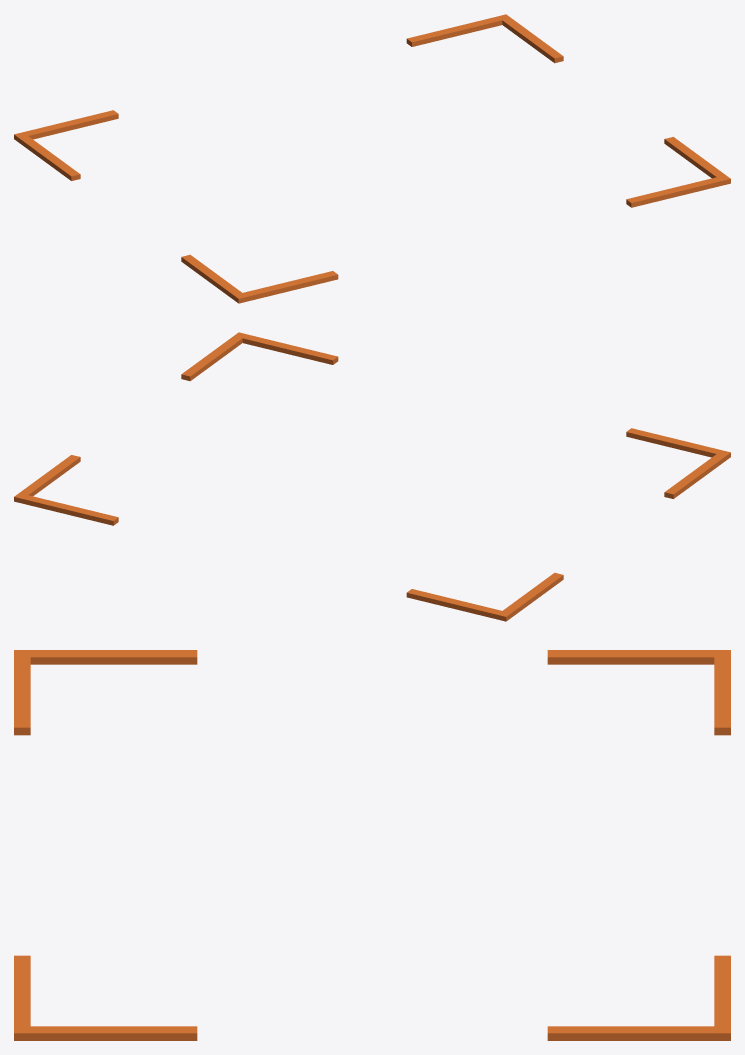
Rendered from corners.fbx.
3 renders of one model, top to bottom at view 1: azimuth 30°, elevation 25°; view 2: azimuth 150°, elevation 25°; view 3: azimuth 270°, elevation 25°, orthographic. The views are drawn at different scales.
Visible parts, largest first — view 1: Cube; view 2: Cube; view 3: Cube.
Boxes of the visible parts, x1,y1,x2,y2 form: Cube: (14, 14, 730, 303); Cube: (14, 332, 730, 621); Cube: (14, 650, 730, 1040).
Size of the model in its own units: 54.4 by 0.5 by 43.02.
